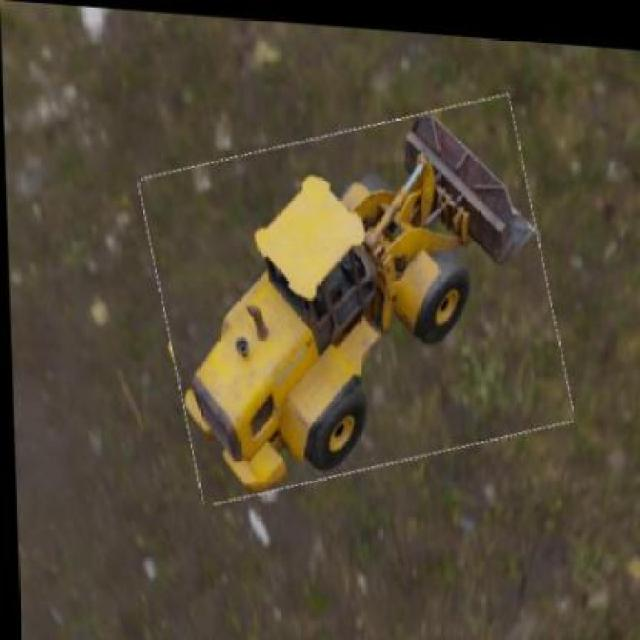buldozerpayloadergrader: (180, 115, 537, 496)
